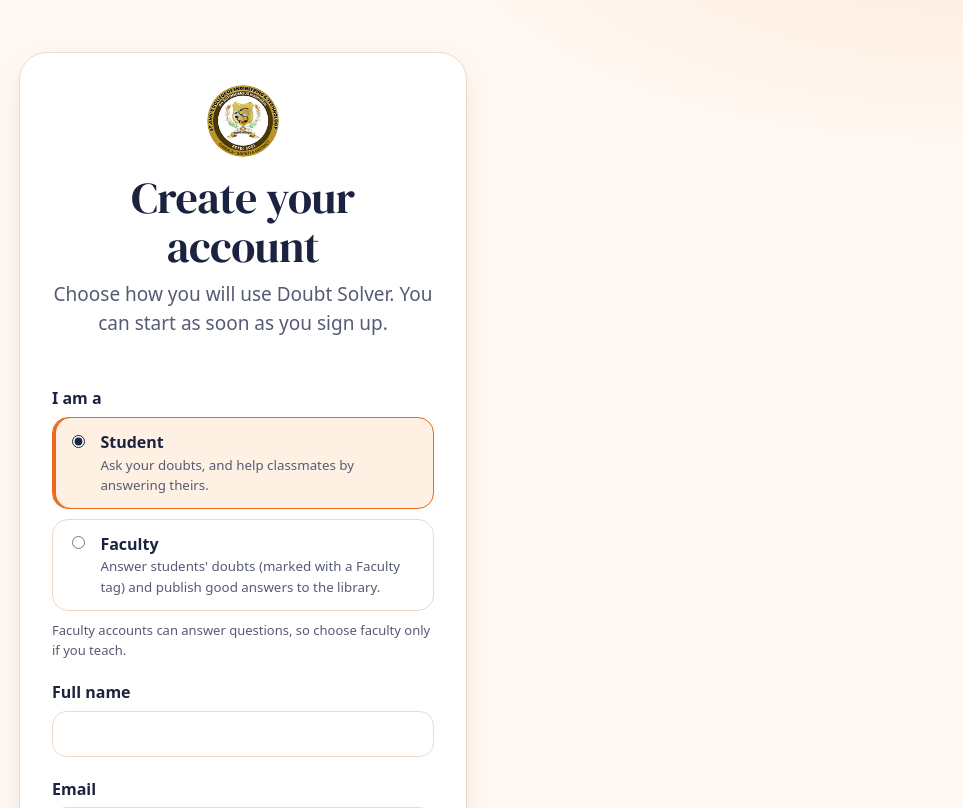
Test case: Register role choice › defaults to student and lets the person choose faculty
Expected: the radio button labelled "Student" is checked, 72,435 -> 85,448
Click the radio button labelled "Faculty": {"x": 79, "y": 543} 72,536 -> 85,549
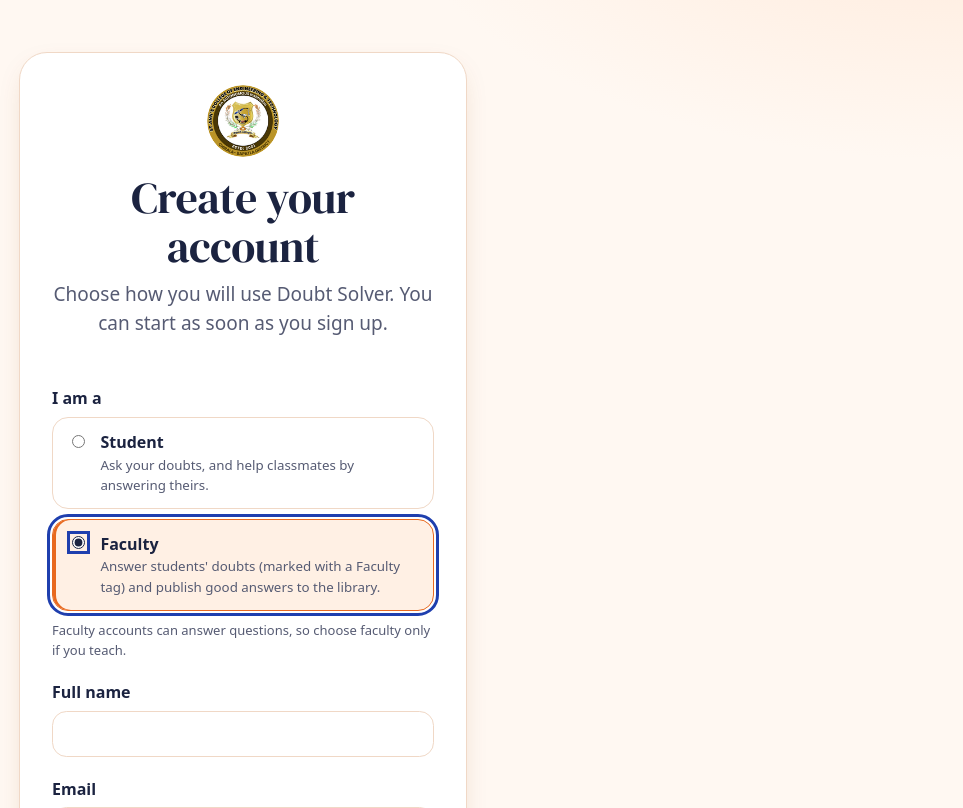
Expected: the radio button labelled "Faculty" is checked, 72,536 -> 85,549
Expected: the radio button labelled "Student" is not checked, 72,435 -> 85,448
